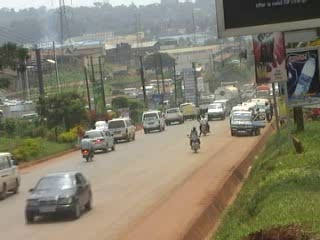Car: (23, 169, 95, 225), (81, 127, 116, 156)
Motorcycle: (80, 131, 97, 164), (184, 125, 203, 152), (197, 112, 211, 137)
